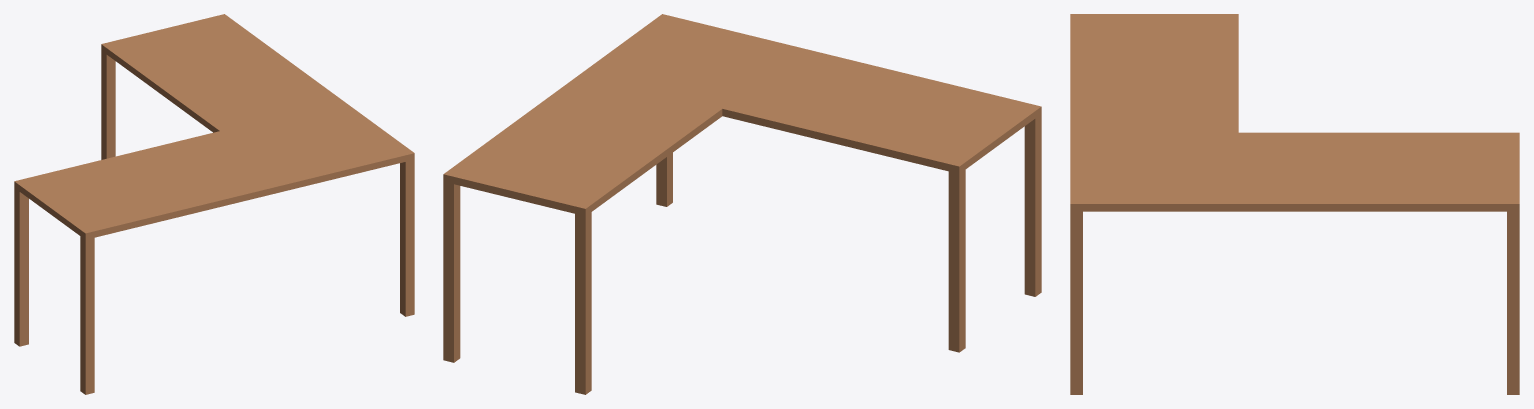
File: CAL-LDK-std.glb
The picture shows the model from 3 angles, left to right: view 1: azimuth 30°, elevation 25°; view 2: azimuth 150°, elevation 25°; view 3: azimuth 270°, elevation 25°; orthographic projection. The views are drawn at different scales.
Parts seen in each view (by area): view 1: top-a:pbr, top-b:pbr, leg-0:pbr, leg-1:pbr, leg-2:pbr, leg-3:pbr; view 2: top-a:pbr, top-b:pbr, leg-2:pbr, leg-4:pbr, leg-0:pbr, leg-3:pbr, leg-1:pbr; view 3: top-a:pbr, top-b:pbr, leg-1:pbr, leg-4:pbr.
Boxes of the visible parts, x1=… form: top-a:pbr: x1=14, y1=101, x2=414, y2=239; top-b:pbr: x1=101, y1=14, x2=342, y2=132; leg-0:pbr: x1=80, y1=236, x2=94, y2=394; leg-1:pbr: x1=400, y1=159, x2=414, y2=316; leg-2:pbr: x1=14, y1=188, x2=28, y2=346; leg-3:pbr: x1=101, y1=51, x2=115, y2=159; top-a:pbr: x1=581, y1=14, x2=1041, y2=173; top-b:pbr: x1=443, y1=74, x2=722, y2=216; leg-2:pbr: x1=948, y1=170, x2=965, y2=352; leg-4:pbr: x1=443, y1=181, x2=460, y2=362; leg-0:pbr: x1=1024, y1=114, x2=1041, y2=296; leg-3:pbr: x1=575, y1=212, x2=591, y2=394; leg-1:pbr: x1=656, y1=152, x2=672, y2=206; top-a:pbr: x1=1070, y1=14, x2=1238, y2=211; top-b:pbr: x1=1238, y1=132, x2=1519, y2=211; leg-1:pbr: x1=1070, y1=211, x2=1082, y2=394; leg-4:pbr: x1=1507, y1=211, x2=1519, y2=394.
Bounding box in the file's own units: 1.6 × 0.75 × 1.6.
